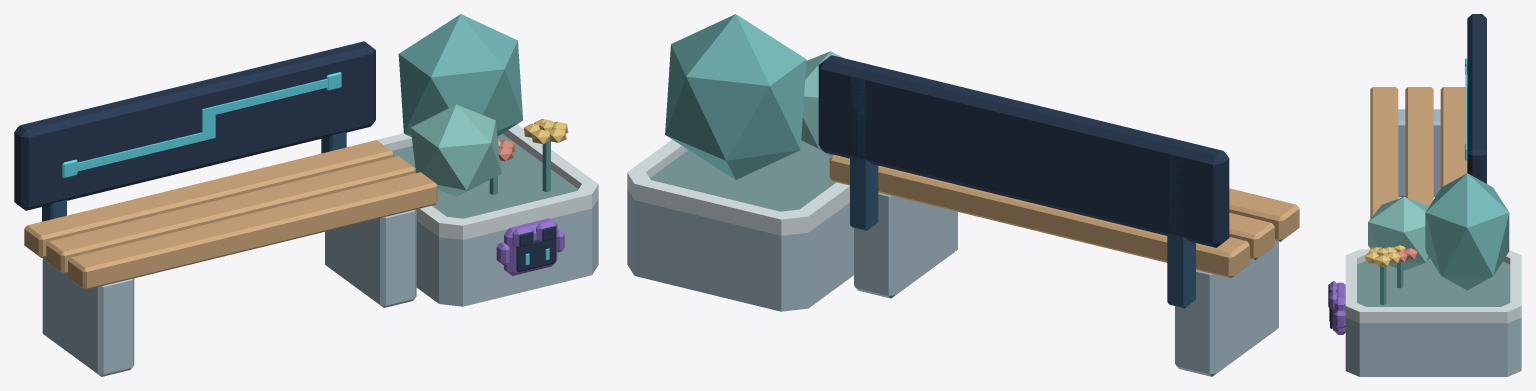
The model's file is campus_planter_bench_v01.glb.
3 renders of one model, left to right at view 1: azimuth 30°, elevation 25°; view 2: azimuth 150°, elevation 25°; view 3: azimuth 270°, elevation 25°, orthographic. The views are drawn at different scales.
Visible parts, largest first — view 1: campus_planter_bench; view 2: campus_planter_bench; view 3: campus_planter_bench.
Boxes of the visible parts, <box> form: campus_planter_bench: <box>14,14,598,376</box>; campus_planter_bench: <box>627,14,1299,376</box>; campus_planter_bench: <box>1328,14,1521,376</box>.
Bounding box in the file's own units: 3.34 × 1.38 × 1.37.
Materials: 1 (1 with a texture image).
